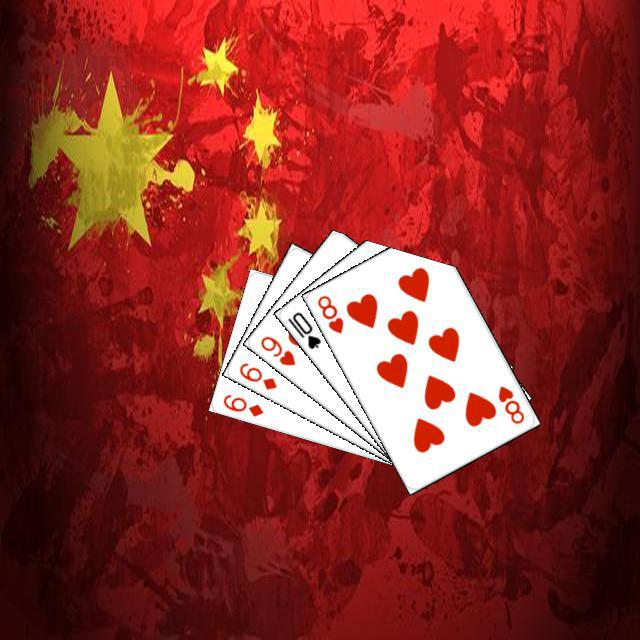10s: (282, 307, 323, 351)
6d: (234, 358, 279, 392), (218, 389, 265, 418)
8h: (312, 290, 345, 335), (493, 381, 526, 426)
9h: (255, 331, 297, 367)
